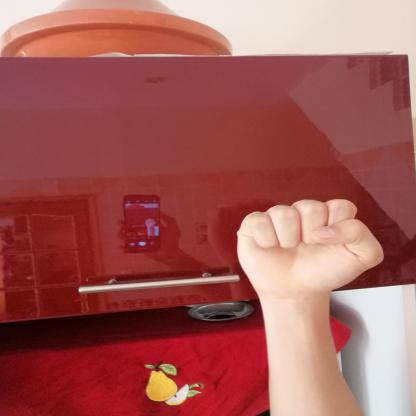SAD: (213, 188, 398, 308)
